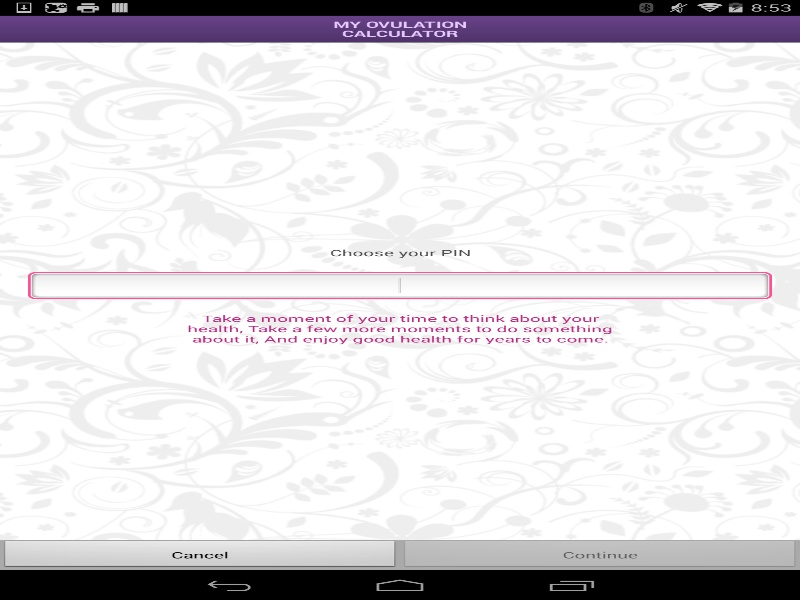Button: (0, 540, 400, 570), (400, 540, 800, 570)
Input: (26, 271, 773, 300)
